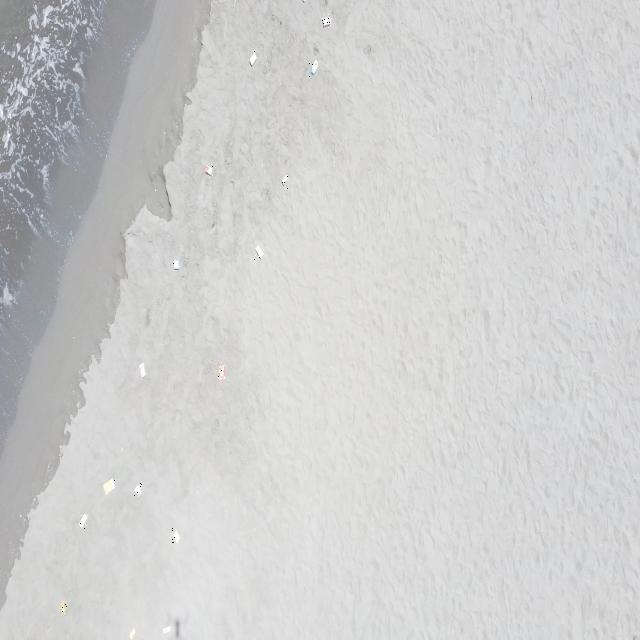Garbage: (103, 477, 114, 492), (216, 364, 224, 380), (171, 527, 179, 543), (248, 49, 256, 65), (308, 59, 316, 75), (79, 512, 87, 527), (255, 244, 263, 258), (203, 163, 212, 175), (132, 483, 140, 495), (60, 600, 67, 612), (128, 627, 135, 639), (281, 173, 287, 186), (322, 16, 329, 27), (139, 363, 144, 376), (172, 259, 179, 268), (162, 627, 171, 633), (301, 0, 304, 2)
